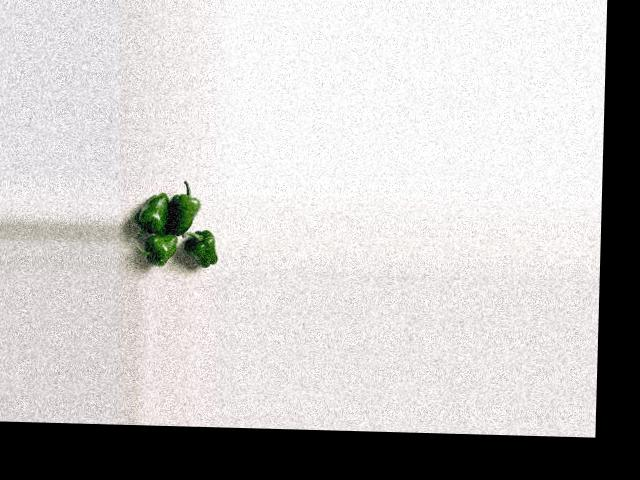bell_pepper: (137, 235, 179, 266)
